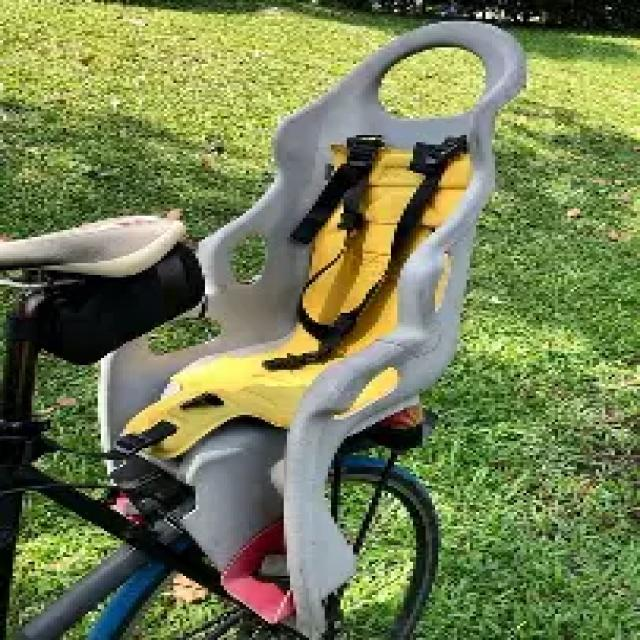childseat: (99, 18, 532, 640)
